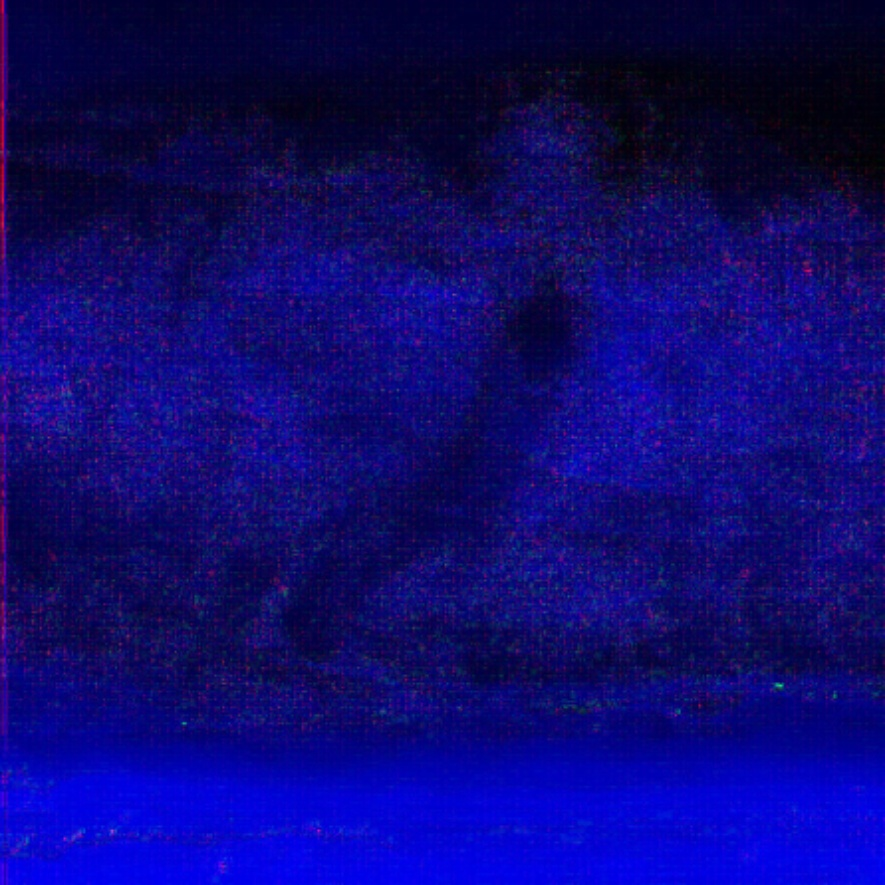rip_current: (414, 232, 617, 542)
